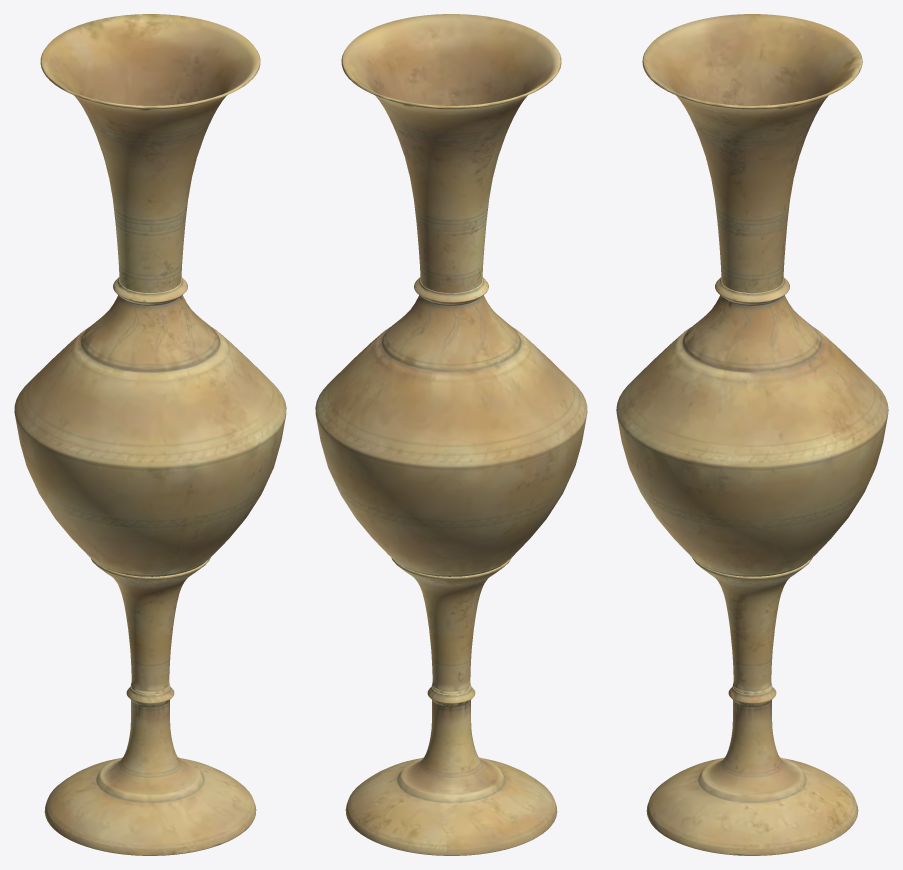
Rendered from brass_vase_01.glb.
The picture shows the model from 3 angles, left to right: view 1: azimuth 30°, elevation 25°; view 2: azimuth 150°, elevation 25°; view 3: azimuth 270°, elevation 25°; orthographic projection.
Visible parts, largest first — view 1: brass_vase_01; view 2: brass_vase_01; view 3: brass_vase_01.
Part boxes in pixels (x1,y1,x2,y2): brass_vase_01: (14,14,286,855); brass_vase_01: (315,14,587,855); brass_vase_01: (616,14,888,855).
Size of the model in its own units: 0.2273 by 0.6925 by 0.2273.
1 material, 1 textured.
